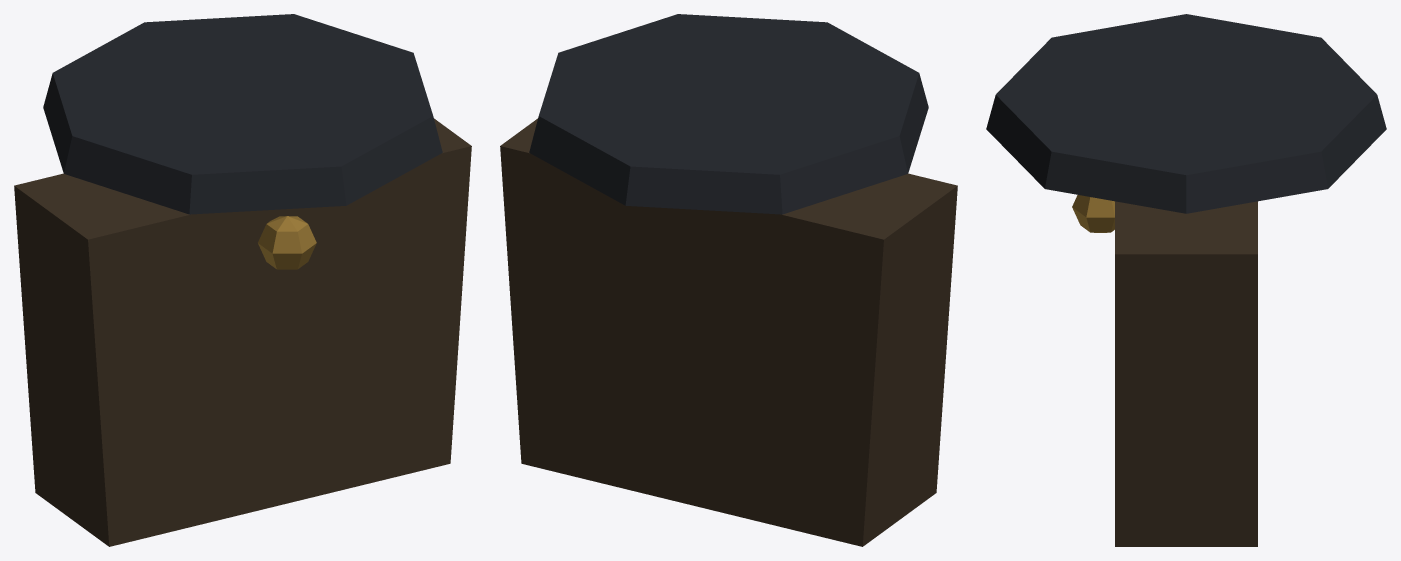
File: pouch.lod.glb
3 renders of one model, left to right at view 1: azimuth 30°, elevation 25°; view 2: azimuth 150°, elevation 25°; view 3: azimuth 270°, elevation 25°, orthographic. The views are drawn at different scales.
Parts seen in each view (by area): view 1: m; view 2: m; view 3: m.
Part boxes in pixels (x1=…): m: x1=14, y1=14, x2=471, y2=546; m: x1=500, y1=14, x2=957, y2=546; m: x1=986, y1=14, x2=1386, y2=546.
Bounding box in the file's own units: 0.089 × 0.085 × 0.083.
